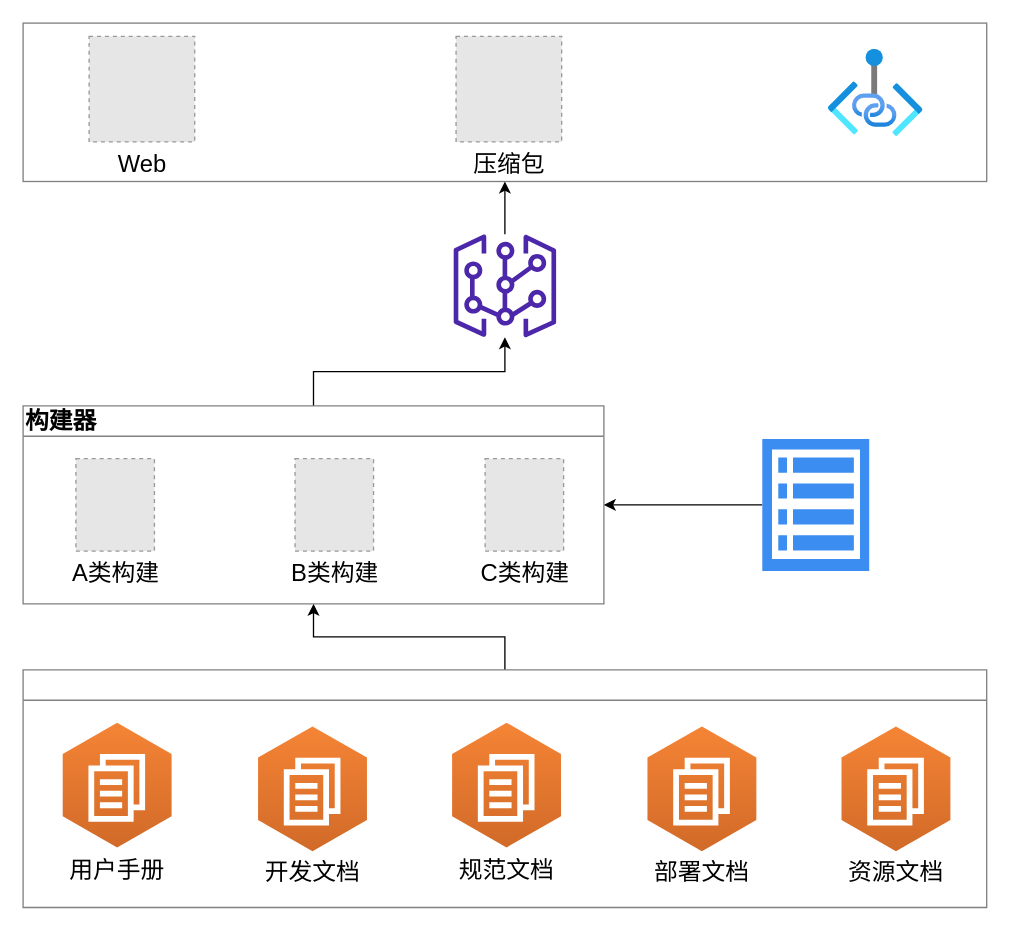
Some shapes in this 1010 by 931 pixel diagram are drawn without their labels. Grey dashed boxes stand in for pictures. The shapes that lost their labels are listed below. From the top down, each one's box as (x1, y1, x2, y2) in pixels, then its label:
(828, 49, 923, 136): 附件
(762, 438, 869, 570): Antora UI库
(22, 669, 987, 908): 文档源
